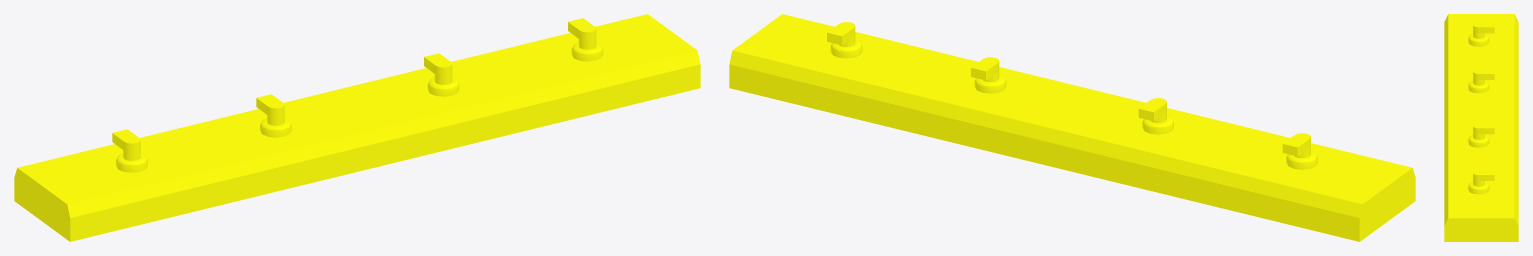
Rendered from SM_KitchenStuffDrawer01.glb.
3 views of the same model, side by side, from view 1: azimuth 30°, elevation 25°; view 2: azimuth 150°, elevation 25°; view 3: azimuth 270°, elevation 25° (orthographic). The views are drawn at different scales.
Visible parts, largest first — view 1: SM_KitchenStuffDrawer01; view 2: SM_KitchenStuffDrawer01; view 3: SM_KitchenStuffDrawer01.
Boxes of the visible parts, left/top/right/bottom form: SM_KitchenStuffDrawer01: left=14, top=14, right=700, bottom=241; SM_KitchenStuffDrawer01: left=729, top=14, right=1415, bottom=241; SM_KitchenStuffDrawer01: left=1444, top=14, right=1518, bottom=241.
Size of what is drawn, in the model's own units: 0.9 by 0.0843 by 0.1379.
1 material, 1 textured.
